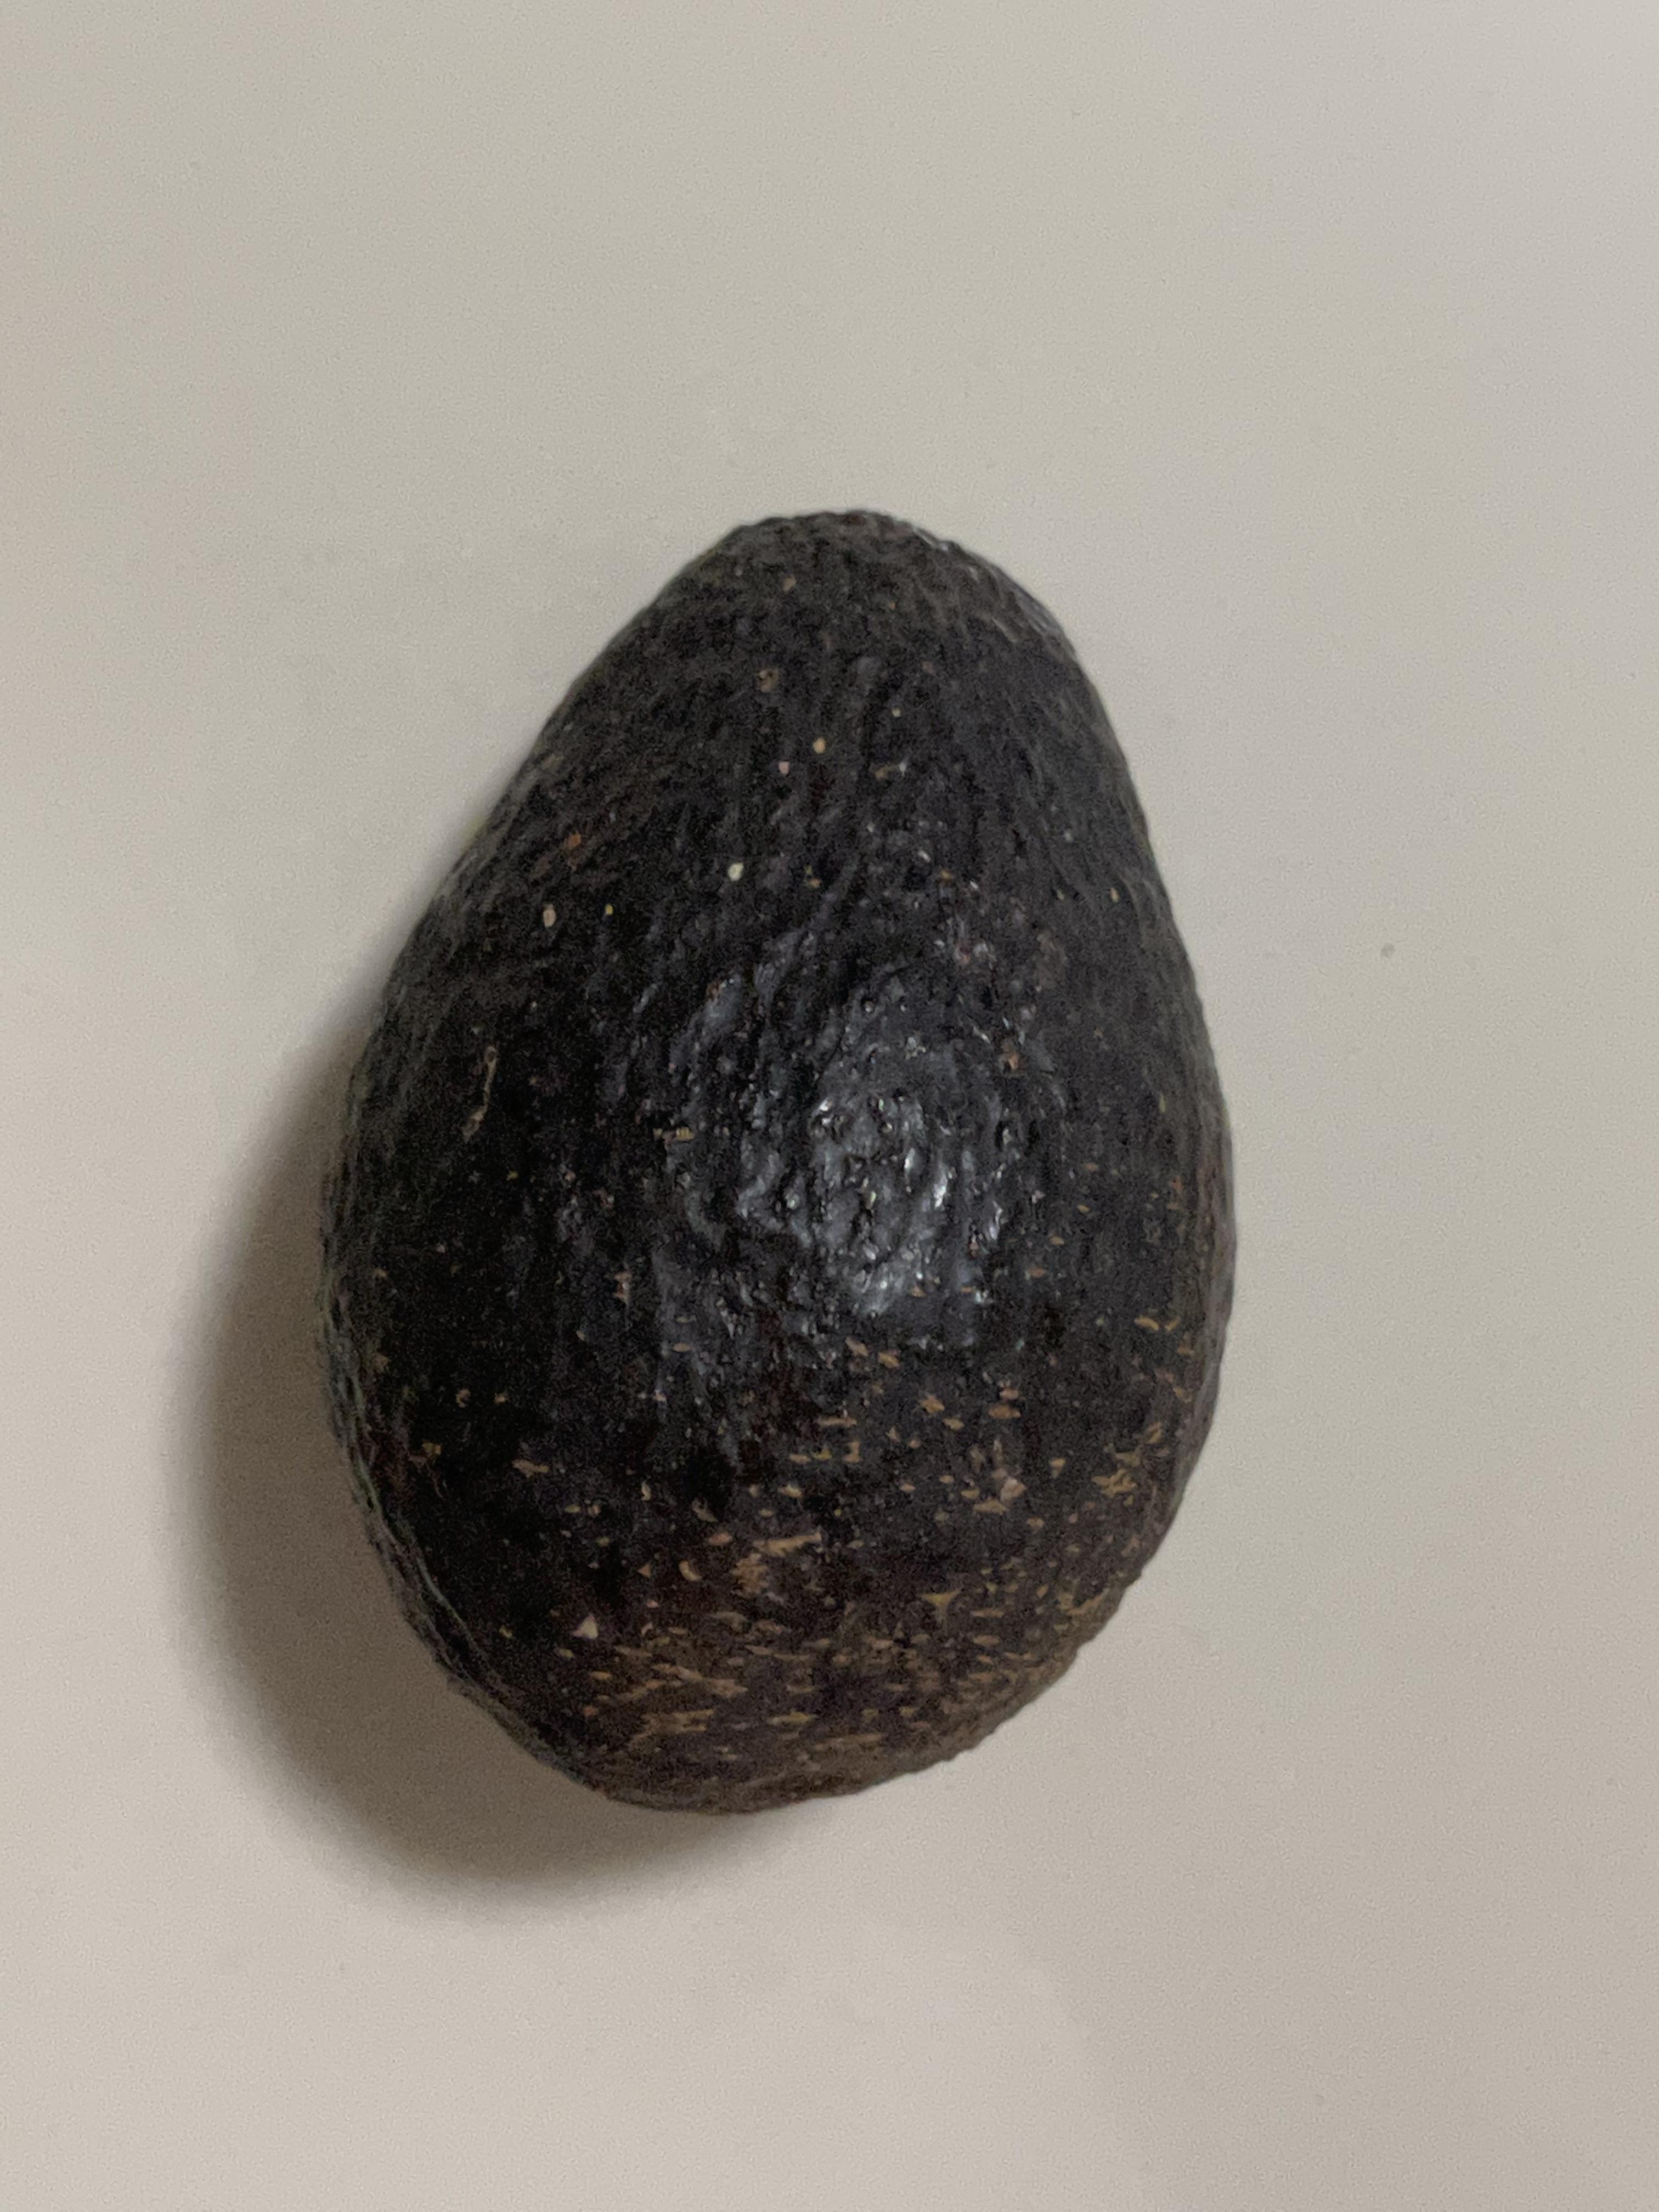Level3: (291, 477, 1274, 1838)
